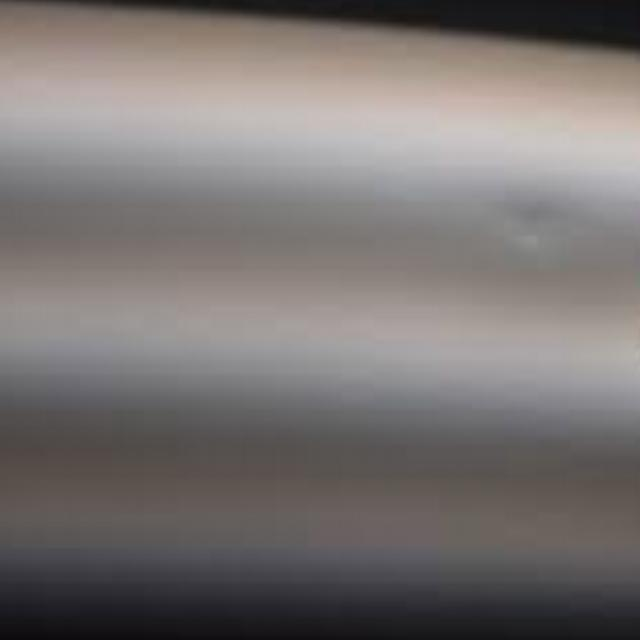dents: (497, 162, 586, 281)
